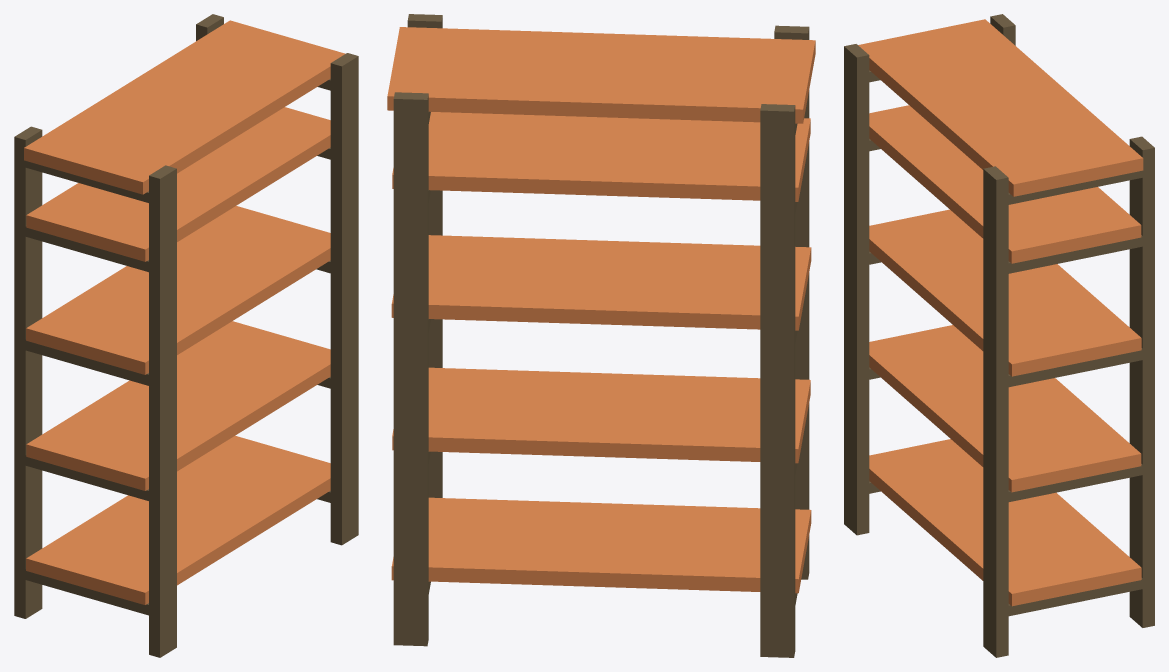
The model's file is shelf_orange.fbx.
3 views of the same model, side by side, from view 1: azimuth 30°, elevation 25°; view 2: azimuth 150°, elevation 25°; view 3: azimuth 270°, elevation 25° (orthographic). The views are drawn at different scales.
Visible parts, largest first — view 1: shelf_orange; view 2: shelf_orange; view 3: shelf_orange.
Boxes of the visible parts, bbox=[...] form: shelf_orange: bbox=[14, 14, 358, 657]; shelf_orange: bbox=[387, 14, 815, 657]; shelf_orange: bbox=[844, 14, 1154, 657].
Size of the model in its own units: 138 by 185 by 109.
1 material, 1 textured.
